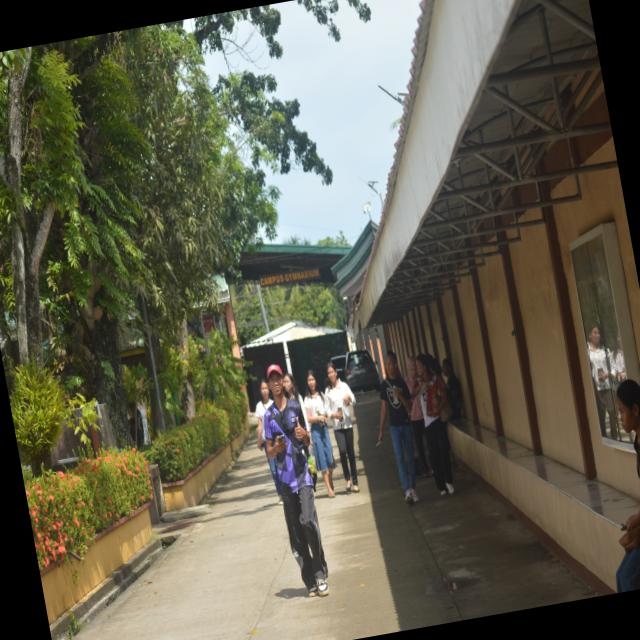person: (264, 365, 328, 596), (379, 351, 419, 504), (412, 354, 454, 495), (325, 362, 359, 493), (304, 371, 335, 497), (617, 379, 639, 474), (411, 395, 430, 477), (255, 379, 273, 452), (284, 374, 305, 414)
